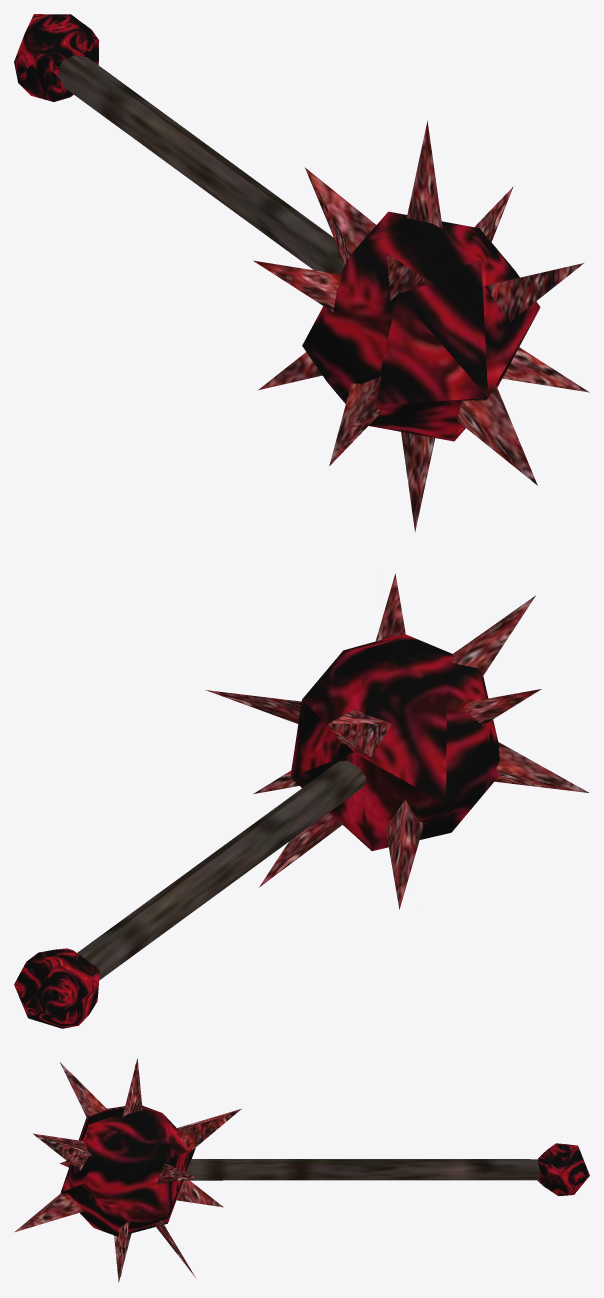
Rendered from mimita-mace-v1.glb.
The picture shows the model from 3 angles, top to bottom: view 1: azimuth 30°, elevation 25°; view 2: azimuth 150°, elevation 25°; view 3: azimuth 270°, elevation 25°; orthographic projection. The views are drawn at different scales.
Parts seen in each view (by area): view 1: Cylinder.006; view 2: Cylinder.006; view 3: Cylinder.006.
Boxes of the visible parts, bbox=[...] form: Cylinder.006: bbox=[14, 14, 589, 532]; Cylinder.006: bbox=[14, 573, 588, 1028]; Cylinder.006: bbox=[14, 1058, 589, 1282].
Size of the model in its own units: 2.5 by 2.89 by 6.45.
3 materials, 3 textured.
